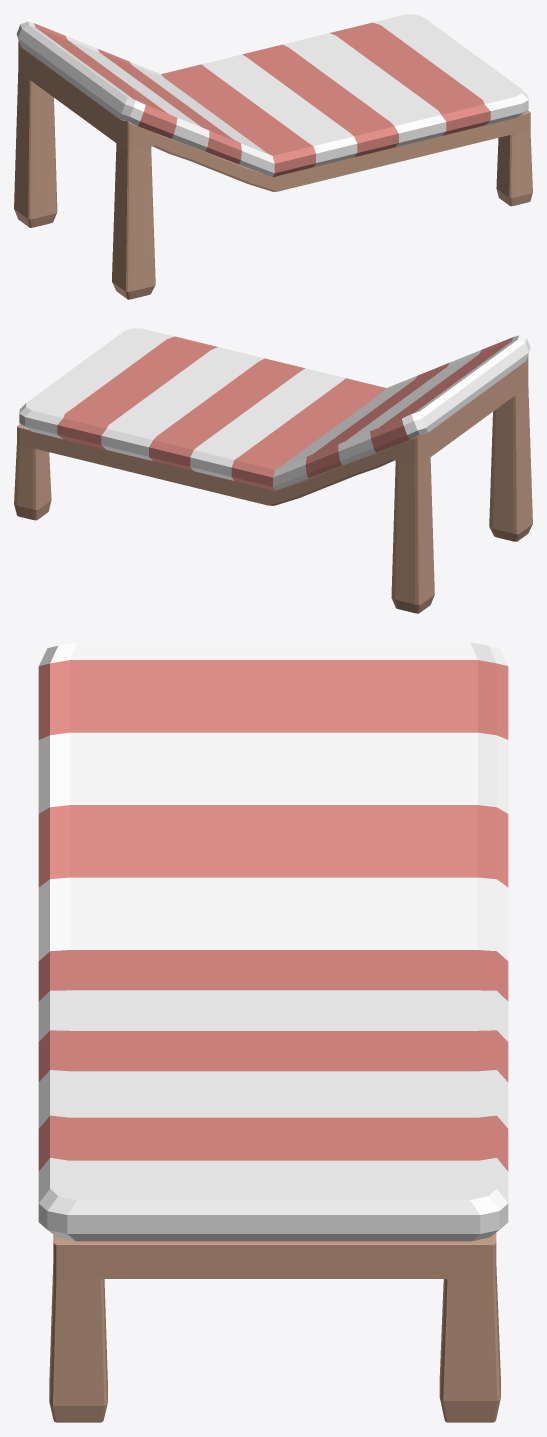
The model's file is sunbed_garden.fbx.
The picture shows the model from 3 angles, top to bottom: view 1: azimuth 30°, elevation 25°; view 2: azimuth 150°, elevation 25°; view 3: azimuth 270°, elevation 25°; orthographic projection. The views are drawn at different scales.
Visible parts, largest first — view 1: Cube.033, sunbed_garden, Cube.051; view 2: Cube.033, sunbed_garden, Cube.051; view 3: Cube.033, Cube.051, sunbed_garden.
Boxes of the visible parts, x1=… form: Cube.033: x1=16, y1=14, x2=528, y2=176; sunbed_garden: x1=14, y1=41, x2=532, y2=299; Cube.051: x1=34, y1=22, x2=490, y2=176; Cube.033: x1=19, y1=328, x2=530, y2=490; sunbed_garden: x1=14, y1=356, x2=532, y2=613; Cube.051: x1=57, y1=336, x2=513, y2=490; Cube.033: x1=38, y1=642, x2=508, y2=1241; Cube.051: x1=38, y1=660, x2=508, y2=1171; sunbed_garden: x1=49, y1=1233, x2=500, y2=1422.
Size of the model in its own units: 182 by 84.02 by 90.91.
